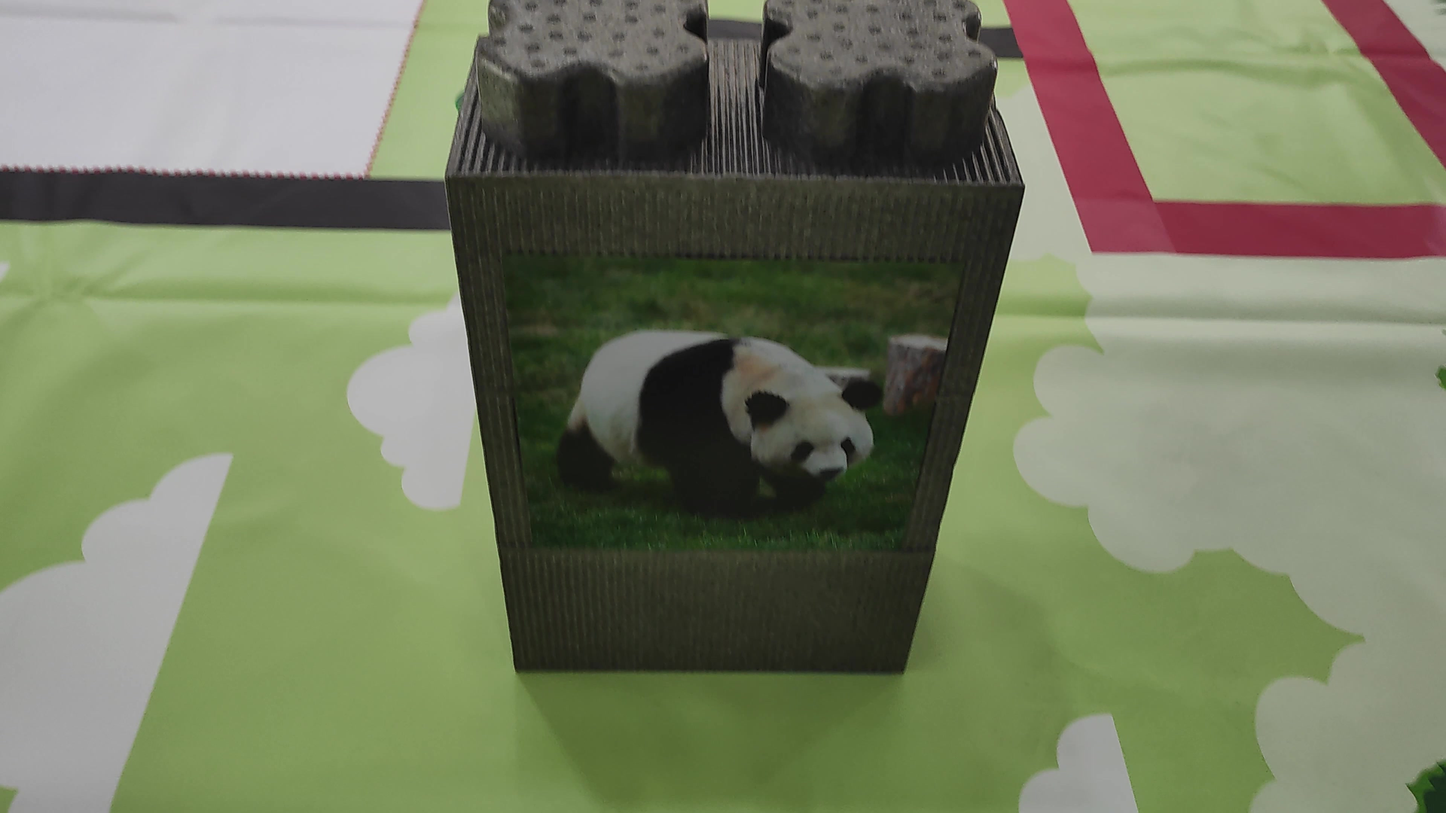panda: (523, 291, 895, 541)
